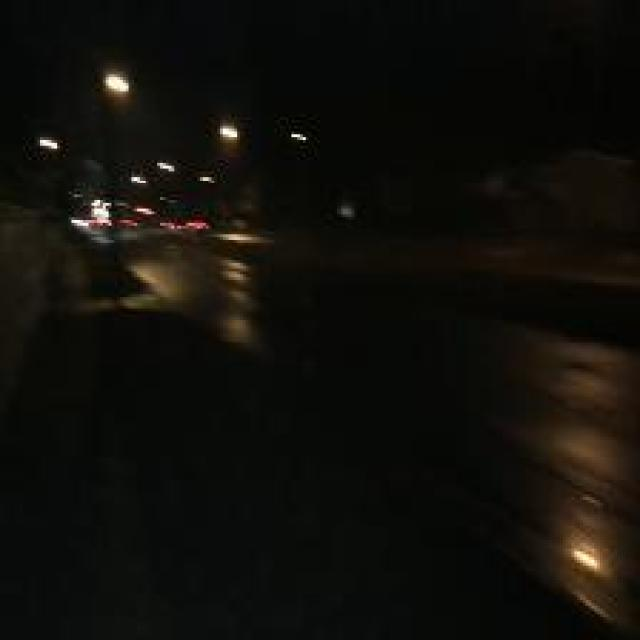other: (212, 203, 265, 345), (92, 66, 149, 114), (570, 536, 616, 582), (202, 112, 244, 150)
